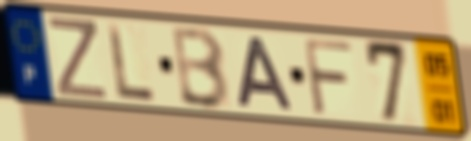7: (361, 36, 412, 127)
A: (235, 34, 297, 113)
B: (171, 25, 233, 113)
F: (301, 35, 356, 120)
L: (104, 20, 158, 104)
Z: (46, 14, 110, 103)
